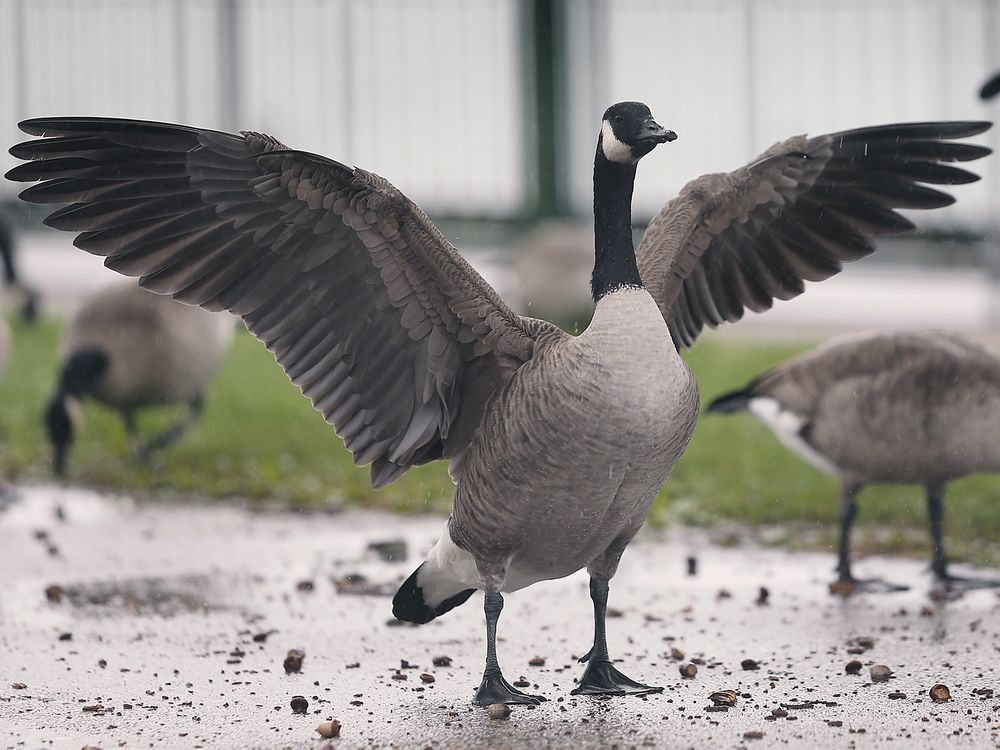goose: (12, 95, 995, 713), (697, 316, 1000, 605), (37, 274, 254, 488)
